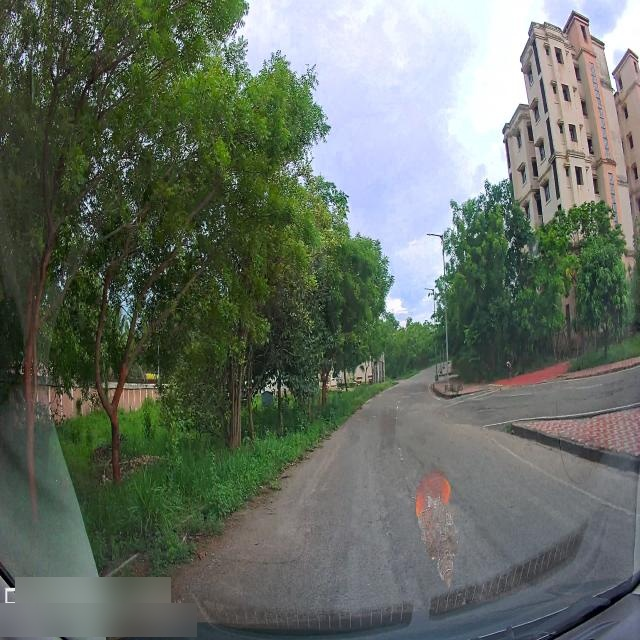pothole: (372, 487, 393, 549), (396, 483, 414, 501)
